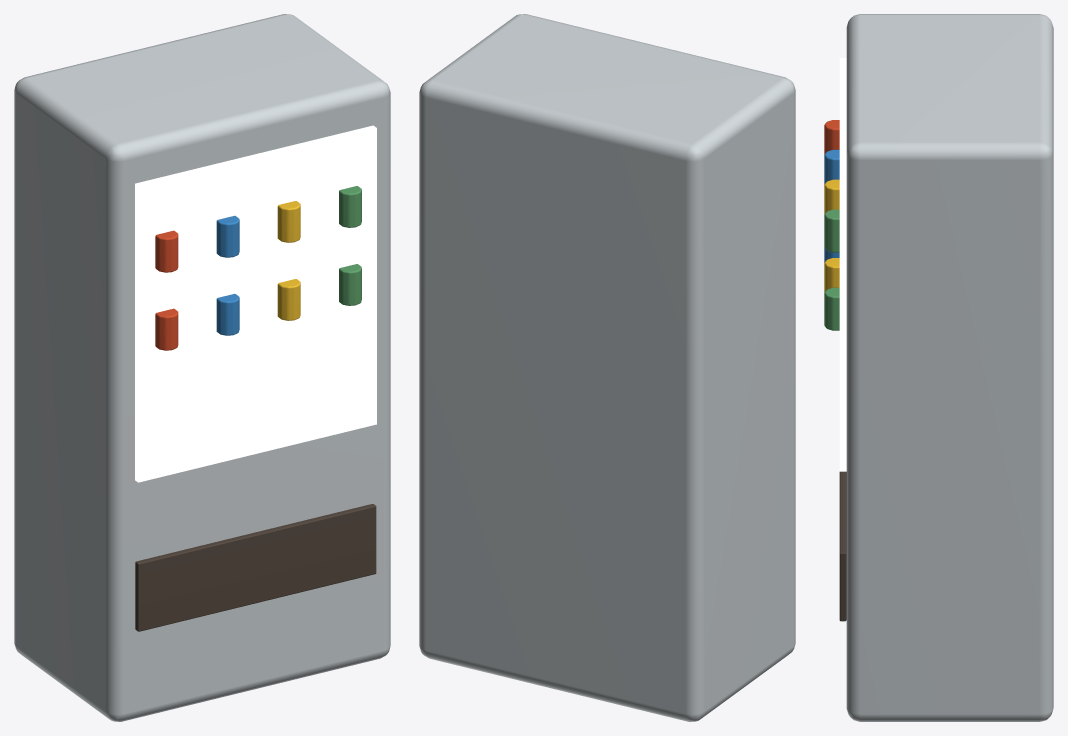
Rendered from vending_machine.glb.
3 views of the same model, side by side, from view 1: azimuth 30°, elevation 25°; view 2: azimuth 150°, elevation 25°; view 3: azimuth 270°, elevation 25° (orthographic).
Parts seen in each view (by area): view 1: vending, vending_front, vending_slot, can, can.001, can.004, can.005, can.006, can.002, can.003, can.007; view 2: vending; view 3: vending, vending_front, vending_slot, can.003, can.007, can.006, can.005, can.004, can.002.
Boxes of the visible parts, box(x1,y1,x2,y2) form: vending: box(14, 14, 390, 721); vending_front: box(135, 125, 376, 482); vending_slot: box(135, 504, 376, 631); can: box(155, 308, 178, 350); can.001: box(216, 293, 239, 335); can.004: box(155, 230, 178, 272); can.005: box(216, 215, 239, 257); can.006: box(277, 201, 300, 242); can.002: box(277, 279, 300, 320); can.003: box(339, 264, 361, 305); can.007: box(339, 186, 361, 227); vending: box(419, 14, 795, 721); vending: box(846, 14, 1053, 721); vending_front: box(839, 58, 846, 471); vending_slot: box(839, 471, 846, 621); can.003: box(824, 287, 839, 330); can.007: box(824, 209, 839, 252); can.006: box(824, 179, 839, 214); can.005: box(824, 149, 839, 184); can.004: box(824, 120, 839, 154); can.002: box(824, 258, 839, 292).
Size of the model in its own units: 0.95 by 1.85 by 0.664.
